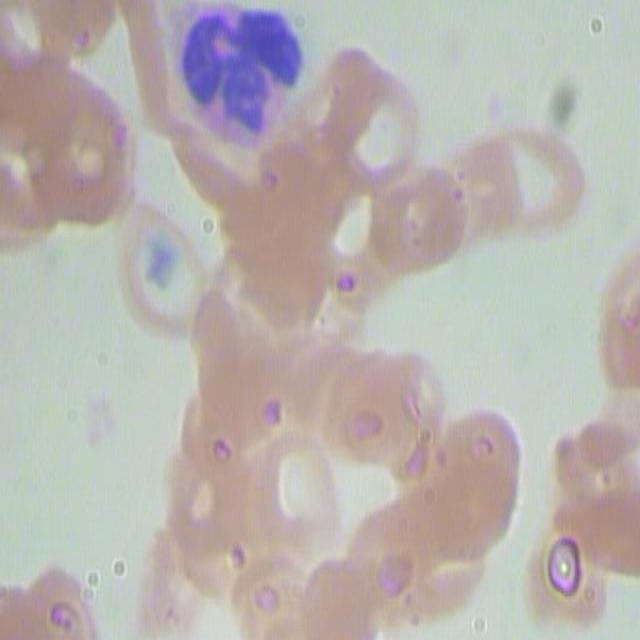RBC: (304, 374, 488, 464), (427, 398, 514, 576), (462, 132, 581, 250), (301, 538, 430, 636), (229, 216, 337, 328), (331, 43, 420, 176), (184, 399, 286, 515), (43, 72, 123, 215), (194, 312, 297, 422), (362, 510, 476, 608), (165, 487, 264, 598), (124, 176, 188, 344), (224, 554, 348, 640), (0, 554, 124, 640), (286, 313, 387, 412), (367, 185, 487, 265), (573, 425, 640, 557), (268, 143, 362, 234), (536, 532, 614, 640), (4, 5, 124, 65), (6, 19, 48, 162), (181, 136, 247, 225), (605, 260, 640, 420), (127, 12, 169, 127), (319, 243, 380, 317), (2, 156, 43, 250)
WBC: (187, 21, 314, 152)
